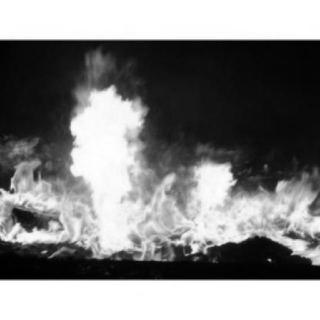Fire: (2, 54, 320, 270)
